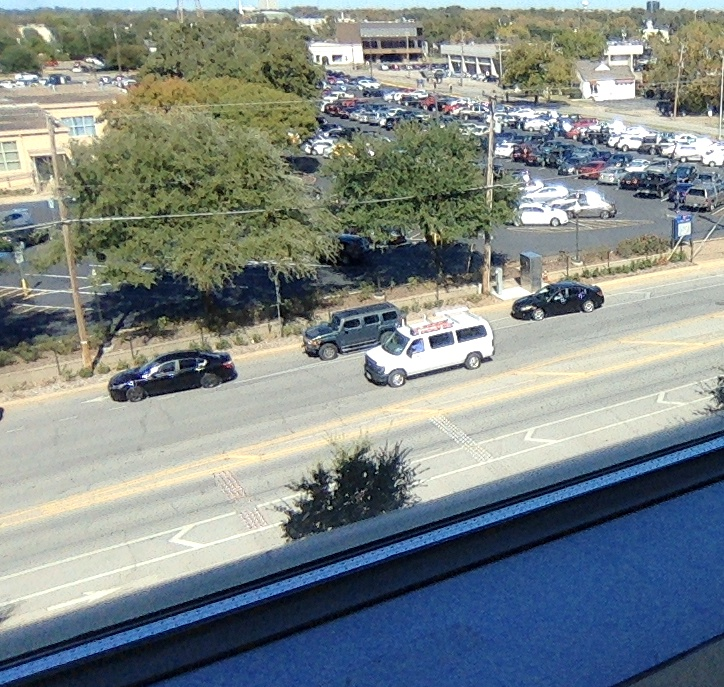car: (300, 300, 424, 387)
